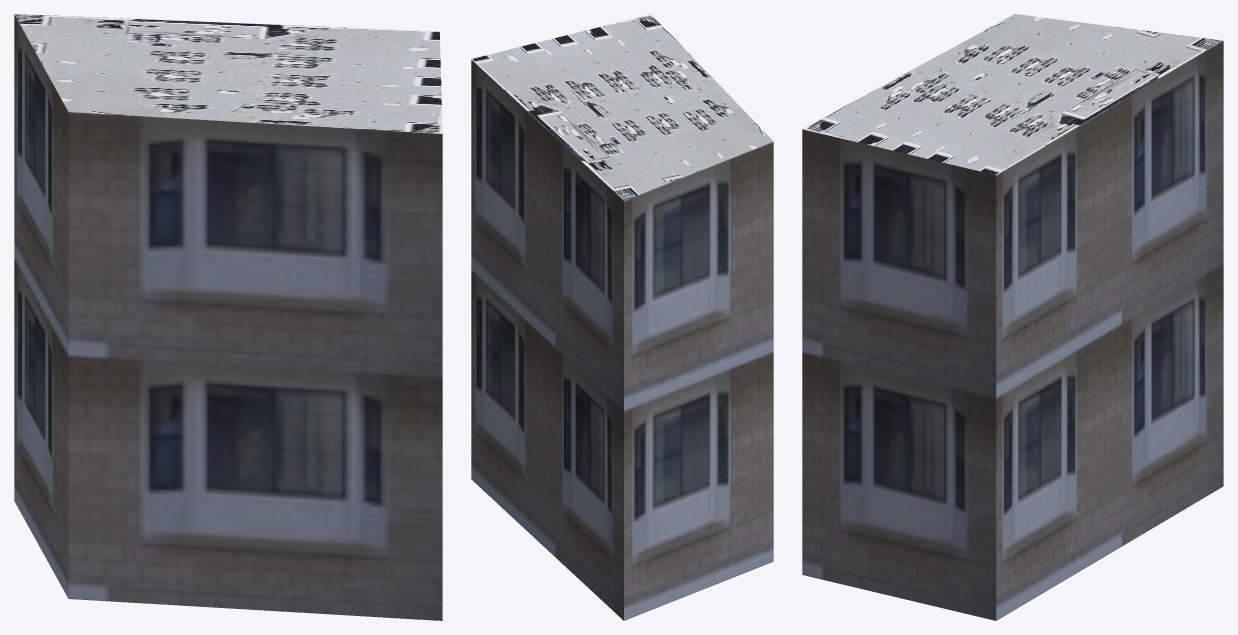
The model's file is ResTex__2410.fbx.
3 renders of one model, left to right at view 1: azimuth 30°, elevation 25°; view 2: azimuth 150°, elevation 25°; view 3: azimuth 270°, elevation 25°, orthographic. The views are drawn at different scales.
Visible parts, largest first — view 1: CityEngineMaterial_3_m, CityEngineMaterial_4_m; view 2: CityEngineMaterial_3_m, CityEngineMaterial_4_m; view 3: CityEngineMaterial_3_m, CityEngineMaterial_4_m.
Part boxes in pixels (x1,y1,x2,y2): CityEngineMaterial_3_m: [14, 14, 442, 620]; CityEngineMaterial_4_m: [14, 14, 442, 133]; CityEngineMaterial_3_m: [471, 59, 773, 620]; CityEngineMaterial_4_m: [471, 14, 773, 200]; CityEngineMaterial_3_m: [802, 41, 1223, 620]; CityEngineMaterial_4_m: [803, 14, 1222, 174].
Bounding box in the file's own units: 4.66 × 6 × 5.14.
2 materials, 2 textured.
